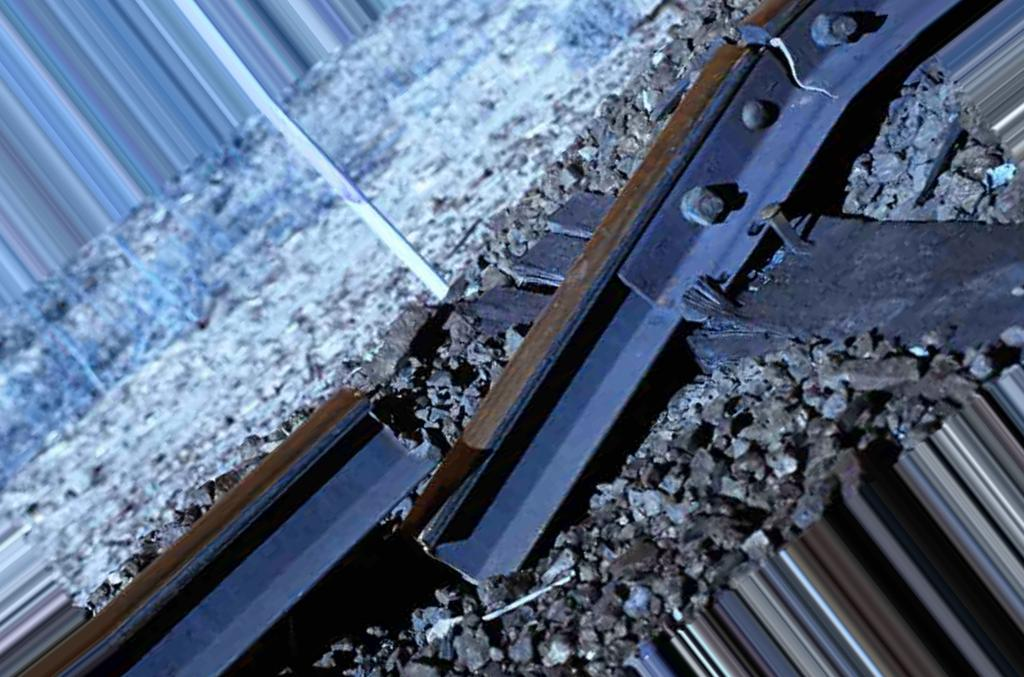tracks_fault: (328, 283, 592, 517)
